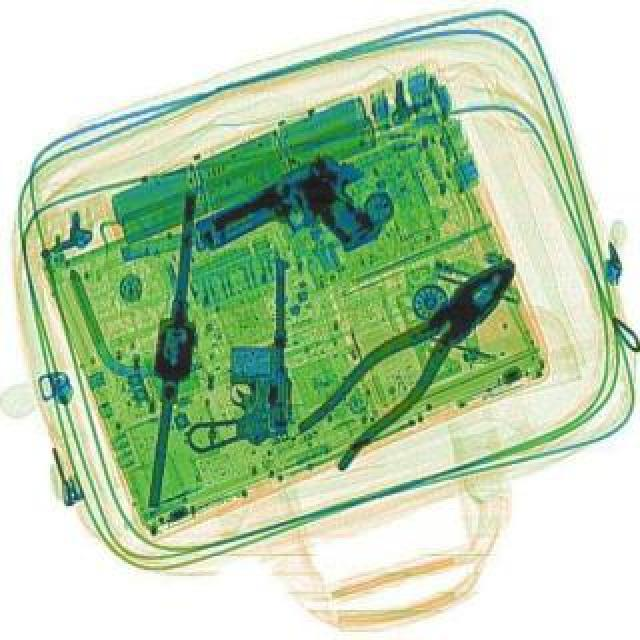gun: (186, 140, 394, 304), (188, 264, 292, 450)
wrench: (290, 236, 538, 474)
